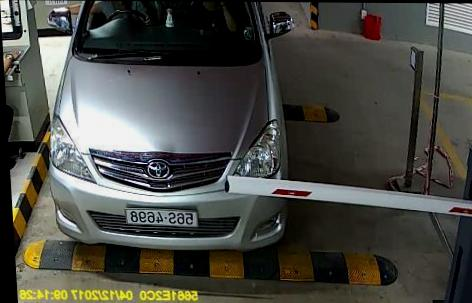License_Plate: (123, 207, 201, 226)
